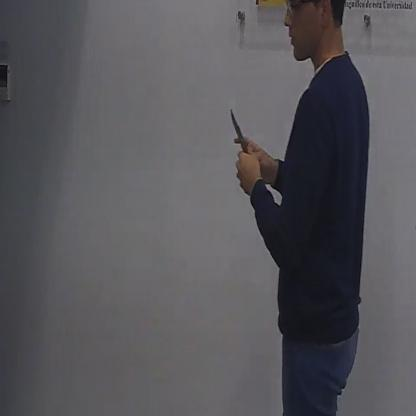knife: (225, 98, 255, 162)
